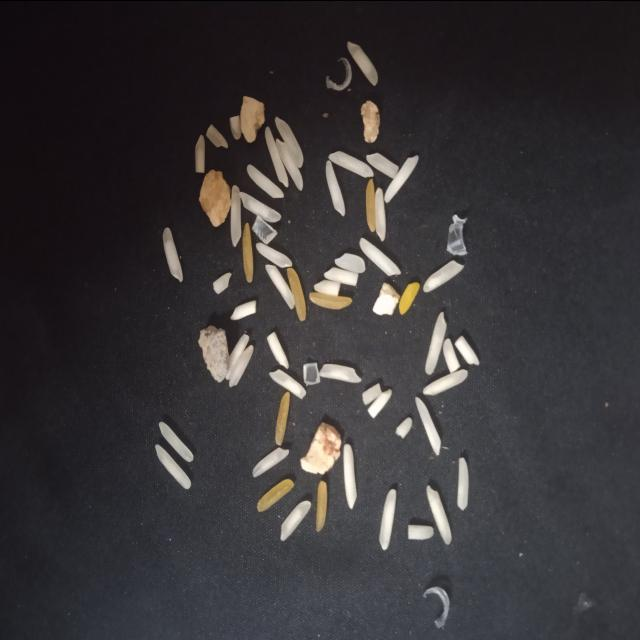Broken: (257, 478, 295, 512), (269, 367, 307, 398), (286, 266, 306, 321), (366, 151, 400, 178), (266, 331, 290, 368), (308, 290, 352, 309), (275, 390, 290, 444), (454, 334, 480, 365), (242, 221, 254, 282), (323, 265, 359, 285), (368, 388, 392, 418), (399, 281, 420, 314), (457, 456, 469, 510), (443, 337, 461, 373), (316, 478, 328, 530), (366, 177, 376, 231), (206, 124, 228, 148), (230, 300, 256, 320), (313, 279, 341, 295), (212, 272, 232, 294), (362, 382, 382, 404), (407, 524, 434, 539), (195, 134, 205, 172), (396, 416, 412, 438), (230, 114, 242, 139)
Full: (358, 236, 402, 276), (154, 442, 192, 488), (384, 154, 419, 202), (414, 394, 442, 454), (426, 484, 452, 544), (424, 310, 448, 374), (274, 116, 304, 167), (264, 125, 288, 187), (276, 138, 304, 190), (158, 421, 194, 461), (346, 40, 378, 84), (265, 262, 295, 308), (422, 260, 464, 292), (238, 191, 282, 221), (280, 498, 311, 540), (246, 163, 284, 197), (328, 149, 374, 177), (162, 226, 184, 282), (252, 446, 290, 478), (423, 368, 469, 394), (228, 342, 254, 387), (226, 332, 250, 380), (326, 159, 346, 215), (378, 488, 396, 550), (343, 443, 358, 509), (256, 241, 292, 267), (318, 362, 362, 382), (230, 184, 242, 246), (334, 250, 366, 272), (374, 187, 386, 240)
